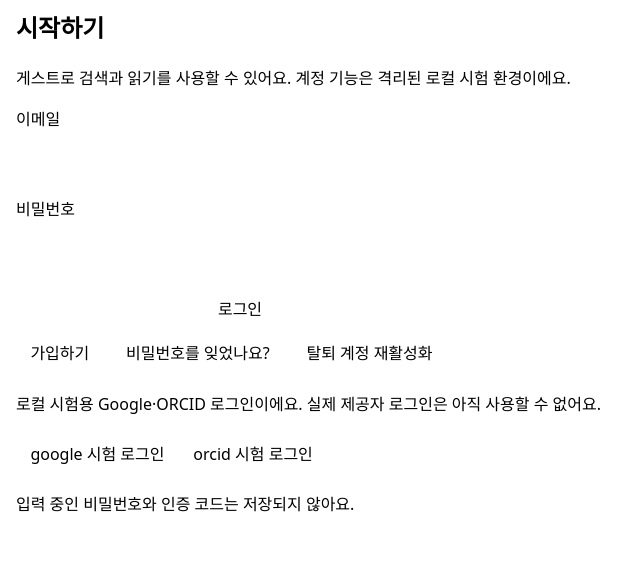
it: U2 account flows › refuses an external identity redirect
The width and height of the screenshot is (617, 578).
Click the button "google 시험 로그인": (97,454) x1=16 y1=432 x2=179 y2=476
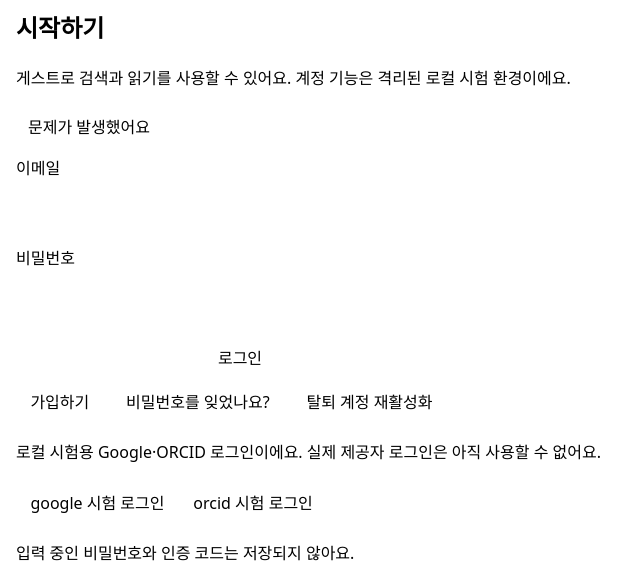
Now the message "문제가 발생했어요" is shown, box x1=28 y1=116 x2=150 y2=138
